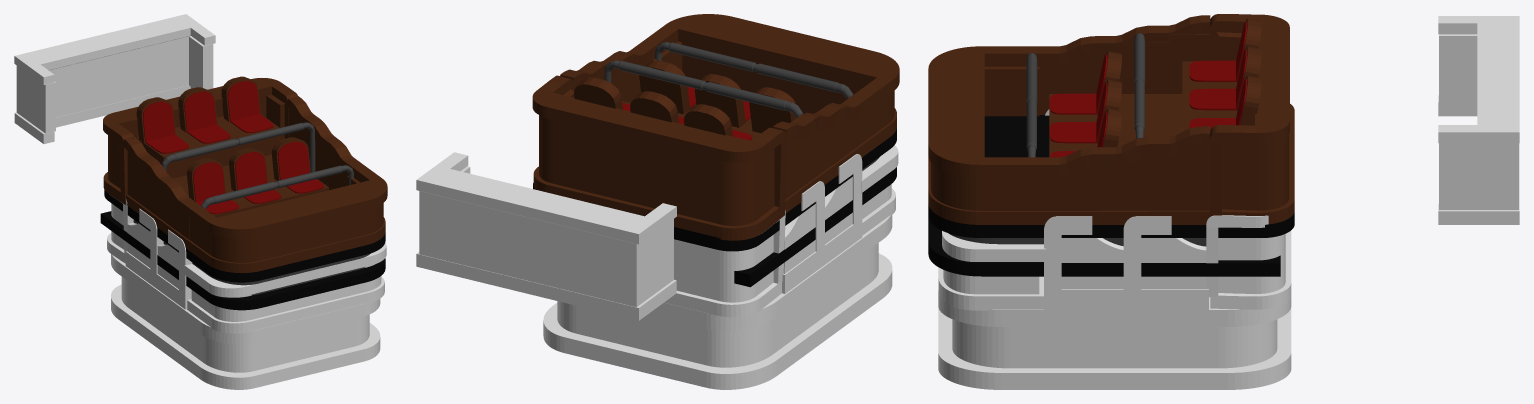
File: Test-wagon.glb
3 renders of one model, left to right at view 1: azimuth 30°, elevation 25°; view 2: azimuth 150°, elevation 25°; view 3: azimuth 270°, elevation 25°, orthographic. The views are drawn at different scales.
Visible parts, largest first — view 1: Cube.018, Cube.013, Cube.002, Cube.003, Cube.001, Cube.017, Cube.015, Cube, Cube.012, Cube.014, Cube.007, Cube.008 (+36 smaller); view 2: Cube.018, Cube.017, Cube.013, Cube.002, Cube.001, Cube.004, Cube, Cube.008, Cube.007, Cube.012, Bar Arrière.001, Bar Avant.001 (+17 smaller); view 3: Cube.013, Cube.018, Cube.002, Cube.017, Cube.001, Cube.005, Cube, Cube.012, Cube.004, Cube.006, Cube.003, Cube.015 (+24 smaller).
Boxes of the visible parts, <box> form: Cube.018: <box>14,14,215,143</box>; Cube.013: <box>186,163,387,273</box>; Cube.002: <box>121,277,369,372</box>; Cube.003: <box>184,243,386,333</box>; Cube.001: <box>111,284,380,389</box>; Cube.017: <box>103,78,297,204</box>; Cube.015: <box>100,211,385,310</box>; Cube: <box>111,254,380,344</box>; Cube.012: <box>104,190,385,282</box>; Cube.014: <box>136,114,280,178</box>; Cube.007: <box>154,229,192,309</box>; Cube.008: <box>125,208,163,286</box>; Cube.018: <box>416,152,676,320</box>; Cube.017: <box>532,75,786,240</box>; Cube.013: <box>639,14,899,156</box>; Cube.002: <box>557,243,878,367</box>; Cube.001: <box>543,253,892,389</box>; Cube.004: <box>664,210,785,317</box>; Cube: <box>648,215,892,331</box>; Cube.008: <box>782,181,824,293</box>; Cube.007: <box>822,154,862,266</box>; Cube.012: <box>533,129,896,251</box>; Bar Arrière.001: <box>604,60,802,117</box>; Bar Avant.001: <box>655,42,853,99</box>; Cube.013: <box>928,46,1039,224</box>; Cube.018: <box>1438,16,1519,224</box>; Cube.002: <box>952,319,1277,368</box>; Cube.017: <box>1210,14,1294,224</box>; Cube.001: <box>938,307,1291,389</box>; Cube.005: <box>1123,216,1208,309</box>; Cube: <box>938,267,1291,326</box>; Cube.012: <box>928,115,1294,237</box>; Cube.004: <box>1206,215,1291,309</box>; Cube.006: <box>1044,216,1129,309</box>; Cube.003: <box>938,231,1046,310</box>; Cube.015: <box>928,216,1280,276</box>.
Size of the model in its own units: 3.31 by 3.64 by 6.93.
